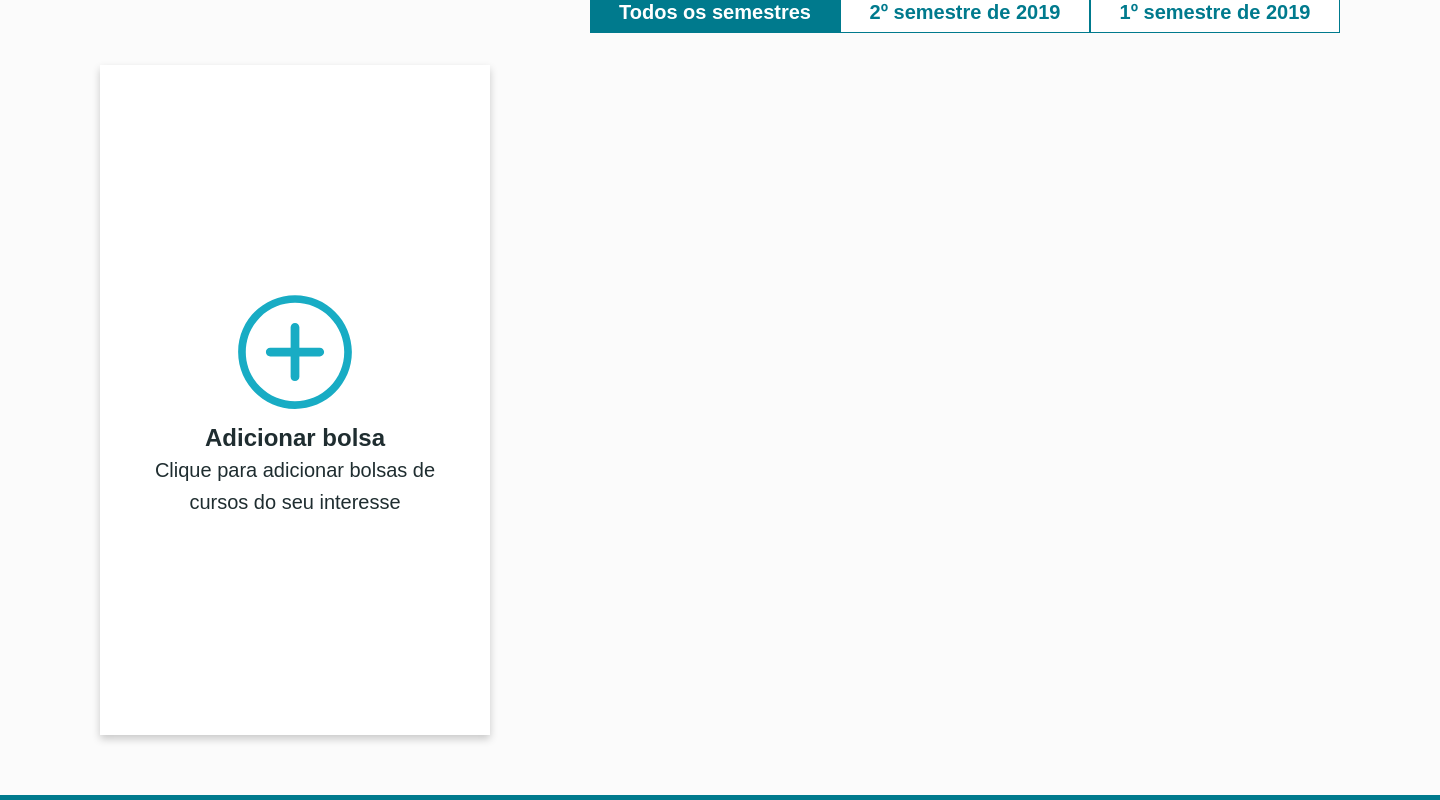
Test: Actions › Should be open modal and visible
(page scrolled)
Click the list item with test id "new-favorite". click: (295,400)
box: [100, 65, 490, 735]
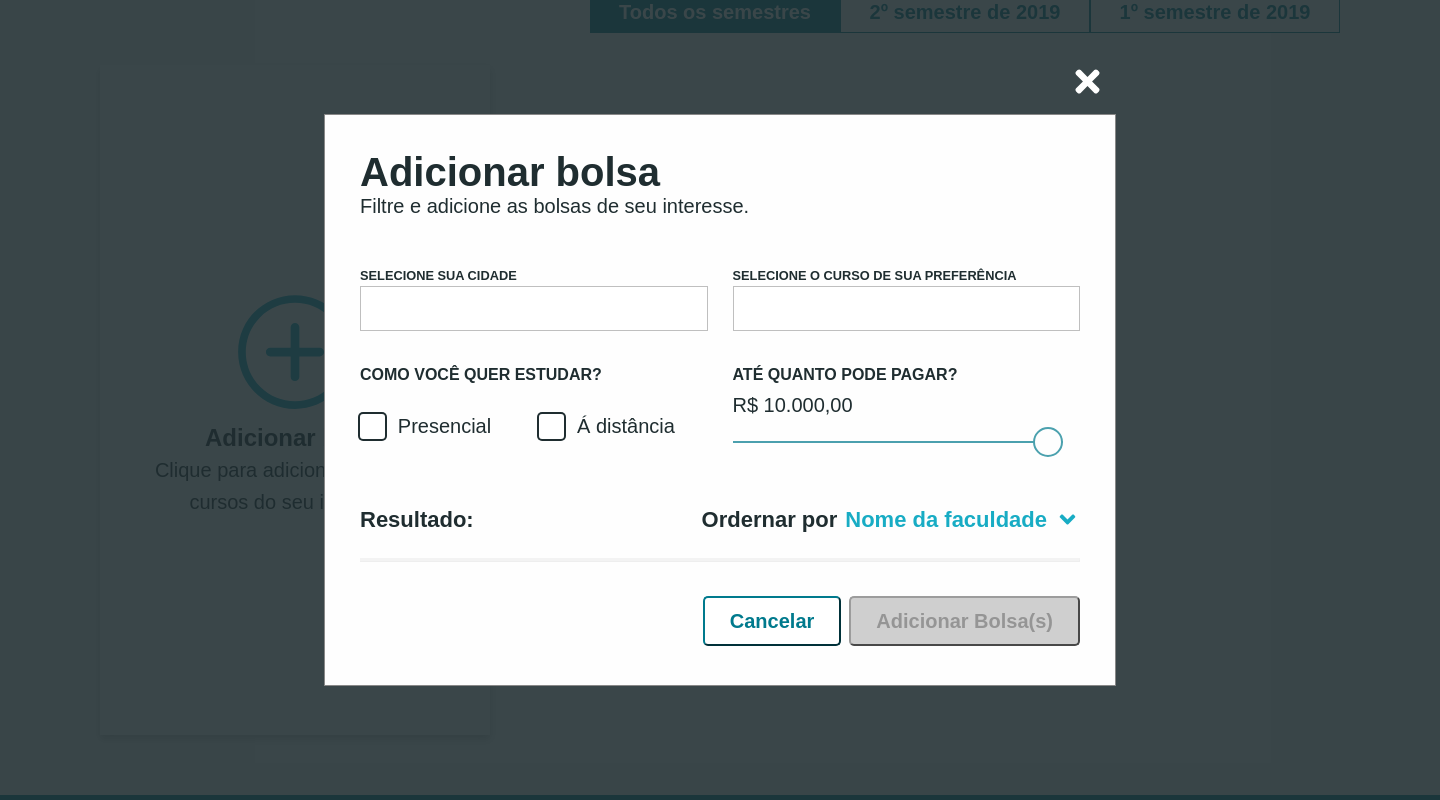
Now the element with test id "modal" is shown
